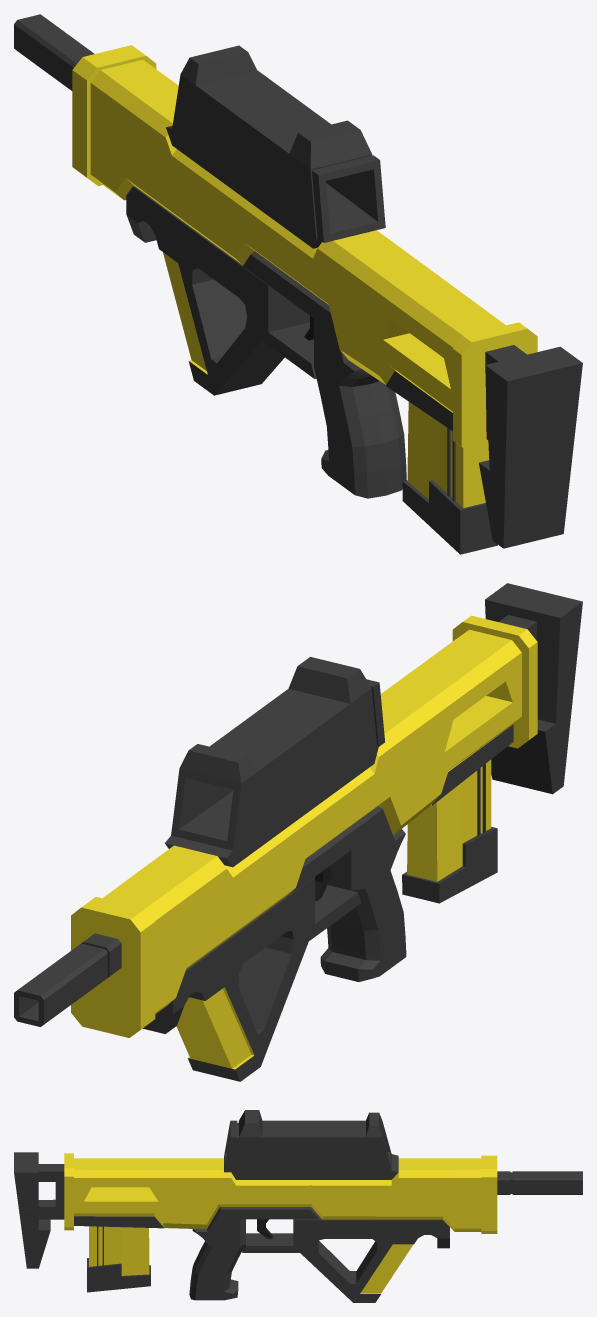
Rendered from AssaultRifle.fbx.
3 views of the same model, one above another, from view 1: azimuth 30°, elevation 25°; view 2: azimuth 150°, elevation 25°; view 3: azimuth 270°, elevation 25° (orthographic). The views are drawn at different scales.
Parts seen in each view (by area): view 1: Cube.002, Cube.018, Cube.017, Cube.014, Cube.016, Cube.015, Cylinder.003; view 2: Cube.002, Cube.018, Cube.017, Cube.016, Cube.014, Cube.015, Cylinder.003; view 3: Cube.002, Cube.018, Cube.017, Cube.016, Cube.015, Cube.014, Cylinder.003.
Part boxes in pixels (x1=…): Cube.002: x1=72, y1=45, x2=537, y2=454; Cube.018: x1=166, y1=45, x2=385, y2=248; Cube.017: x1=126, y1=186, x2=316, y2=395; Cube.014: x1=479, y1=345, x2=582, y2=548; Cube.016: x1=243, y1=251, x2=406, y2=498; Cube.015: x1=402, y1=402, x2=497, y2=554; Cylinder.003: x1=14, y1=14, x2=94, y2=90; Cube.002: x1=71, y1=615, x2=537, y2=1037; Cube.018: x1=165, y1=657, x2=384, y2=867; Cube.017: x1=143, y1=877, x2=361, y2=1081; Cube.016: x1=290, y1=806, x2=406, y2=981; Cube.014: x1=485, y1=583, x2=582, y2=794; Cube.015: x1=402, y1=759, x2=497, y2=903; Cylinder.003: x1=14, y1=933, x2=121, y2=1026; Cube.002: x1=64, y1=1153, x2=497, y2=1233; Cube.018: x1=224, y1=1110, x2=398, y2=1179; Cube.017: x1=242, y1=1218, x2=449, y2=1302; Cube.016: x1=189, y1=1207, x2=320, y2=1300; Cube.015: x1=87, y1=1226, x2=150, y2=1292; Cube.014: x1=14, y1=1152, x2=64, y2=1268; Cylinder.003: x1=497, y1=1171, x2=582, y2=1194.
Size of the model in its own units: 17.47 by 71.33 by 205.
